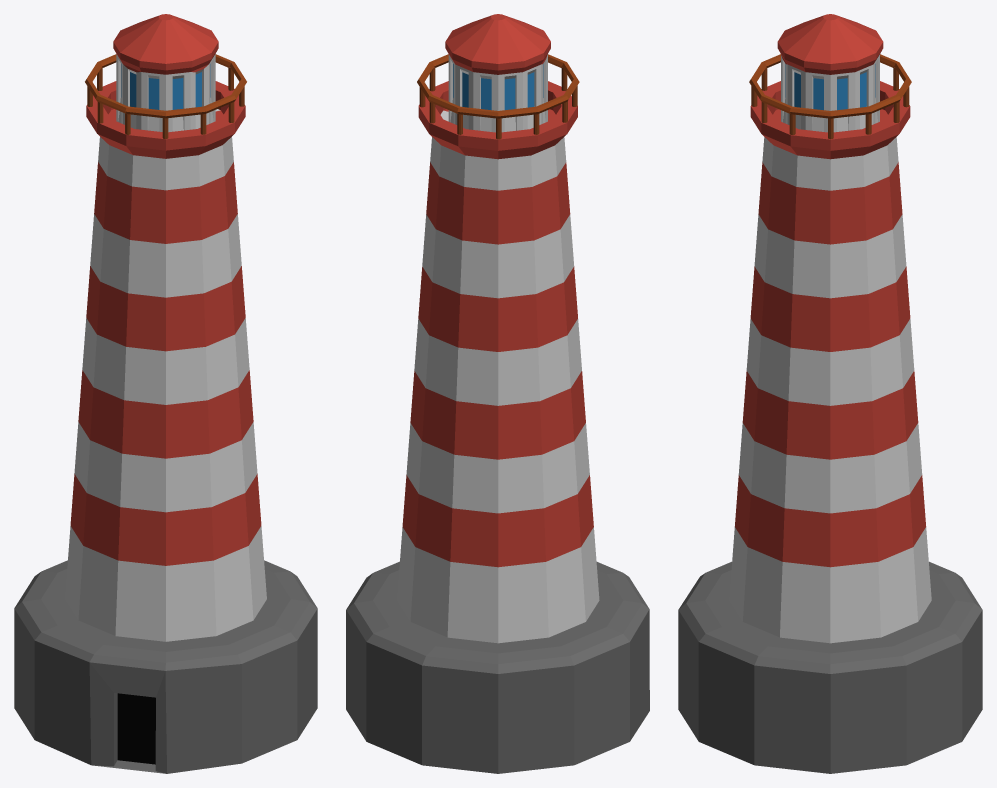
File: lighthouse.glb
3 renders of one model, left to right at view 1: azimuth 30°, elevation 25°; view 2: azimuth 150°, elevation 25°; view 3: azimuth 270°, elevation 25°, orthographic.
Visible parts, largest first — view 1: Cilindro_2; view 2: Cilindro_2; view 3: Cilindro_2.
Part boxes in pixels (x1,y1,x2,y2): Cilindro_2: (14, 14, 317, 773); Cilindro_2: (346, 14, 649, 773); Cilindro_2: (678, 14, 982, 773).
Bounding box in the file's own units: 2 × 5.04 × 2.
